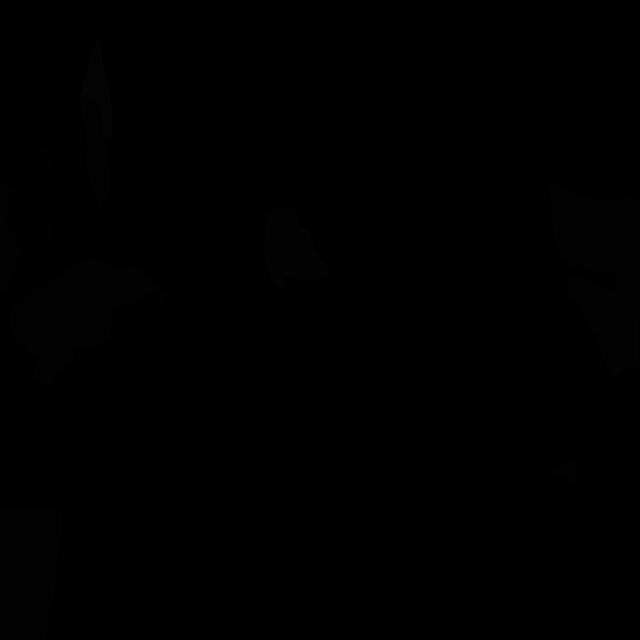cardboard: (10, 257, 166, 385), (548, 183, 640, 335), (0, 507, 62, 640), (81, 101, 109, 209), (593, 319, 640, 378), (0, 182, 22, 292), (553, 455, 578, 484)
metal: (264, 206, 332, 291)
rigid_plastic: (4, 146, 56, 308)
soft_plastic: (78, 38, 113, 140)
